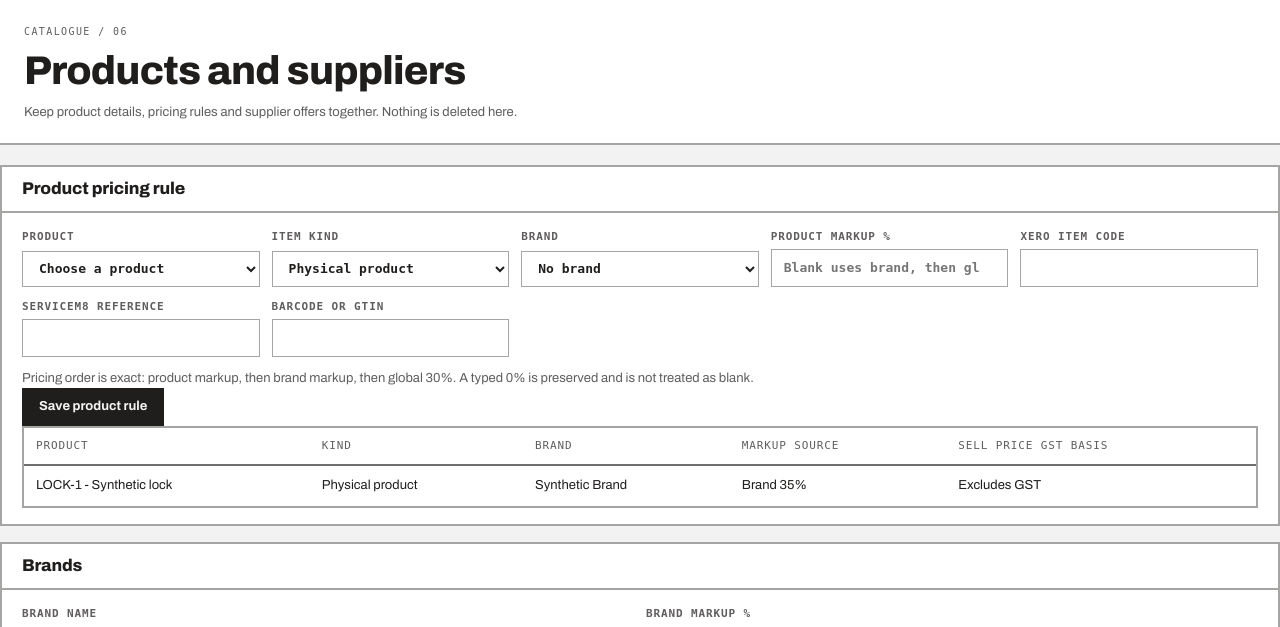
Products and suppliers page › preserves an explicit zero markup and explains the separate publication floor
The width and height of the screenshot is (1280, 627).
Select "LOCK-1 - Synthetic lock" in the dropdown labelled "Product" at (141, 269), box [22, 251, 260, 287]
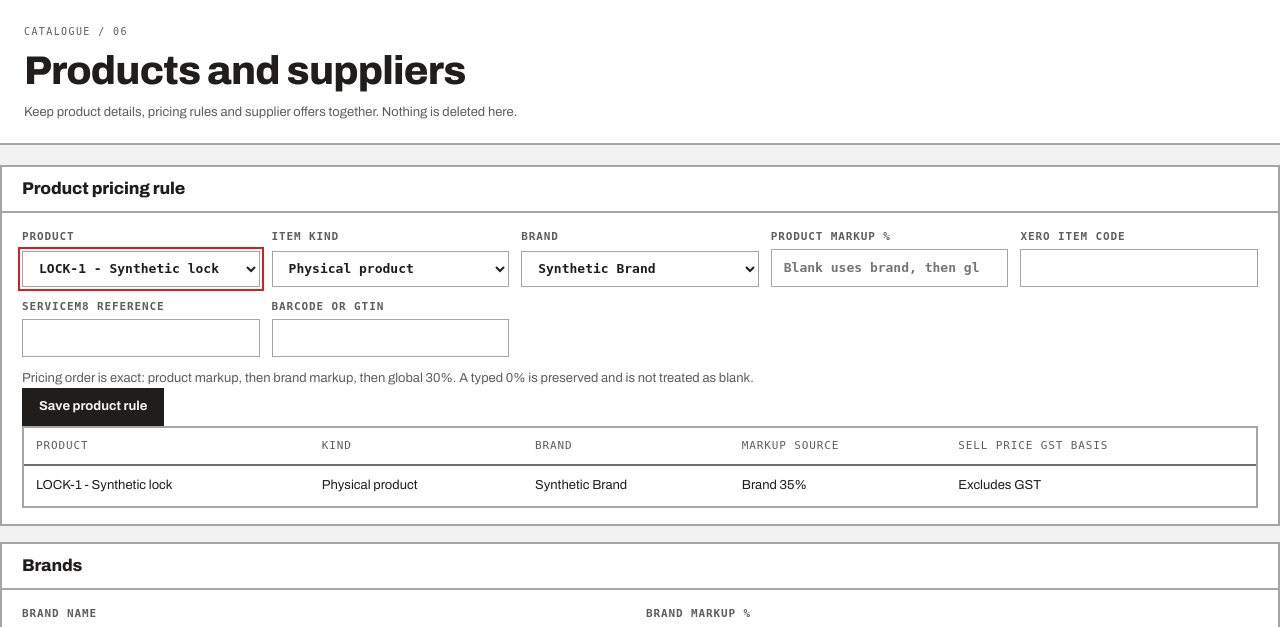
Type "0" into the number field labelled "Product markup %" at (890, 268), box [771, 249, 1008, 287]
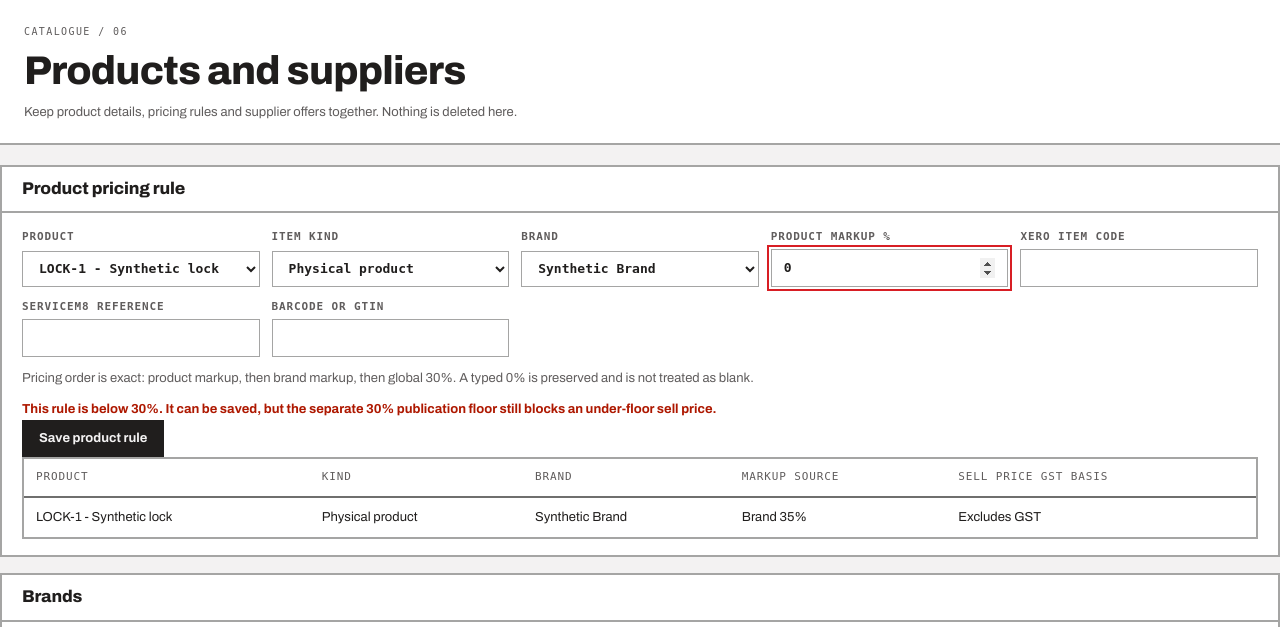
Expected: the text "typed 0% is preserved" is shown, [440, 371, 754, 385]
Expected: the message shows "separate 30% publication floor", [22, 402, 716, 416]
